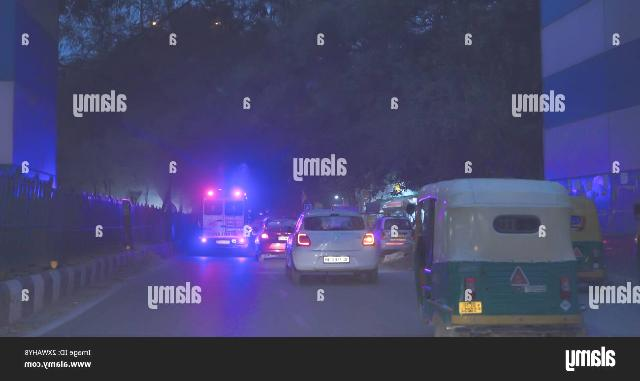ambulance: (193, 184, 252, 258)
